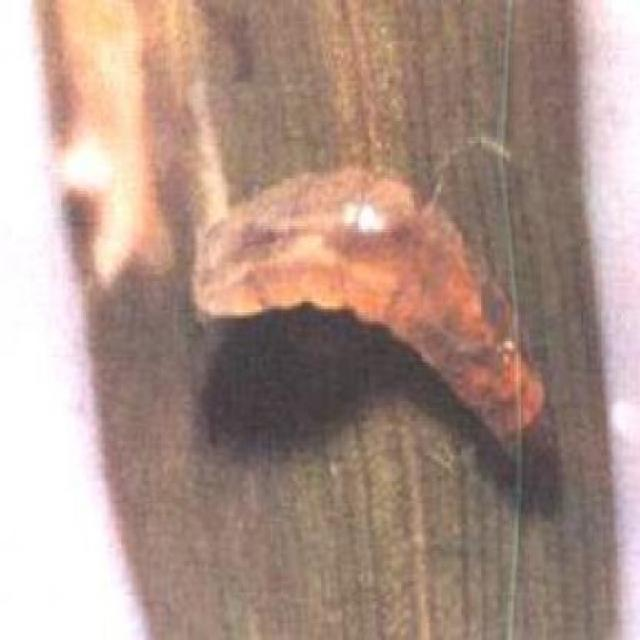whorl-maggot: (184, 162, 550, 452)
